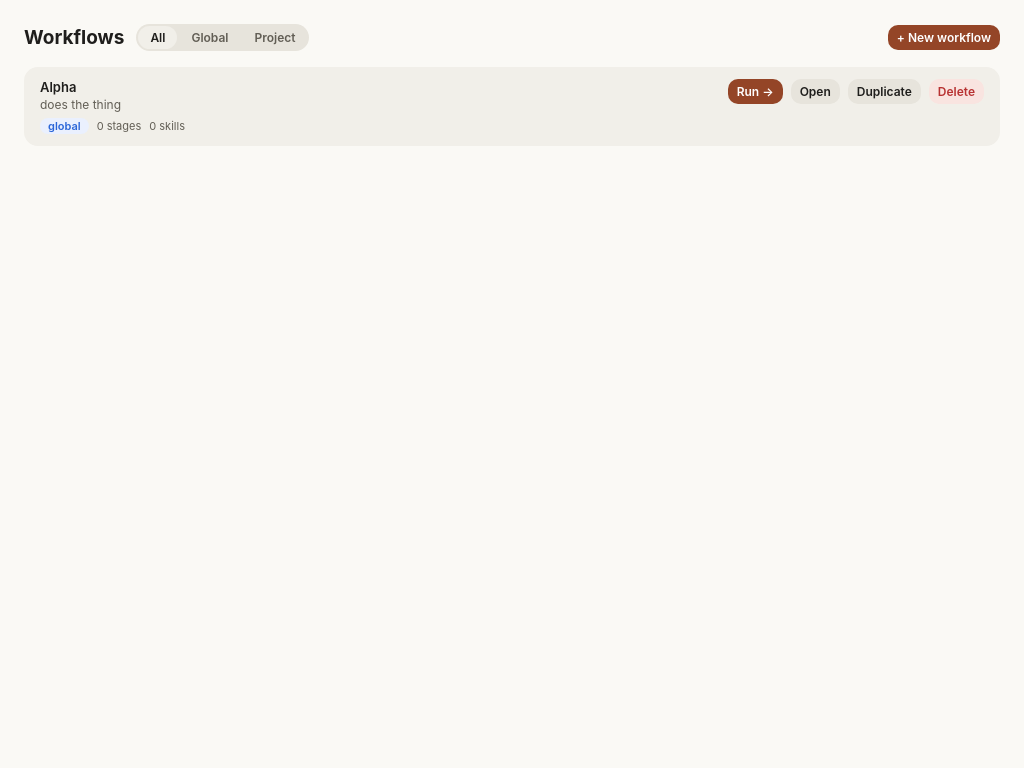
Scenario: WorkflowsView (SCR-01) › "Open" swaps the list for the editor
This screenshot has width=1024, height=768.
Click the button with test id "workflow-open-a" at (815, 92), box [791,79,840,104]
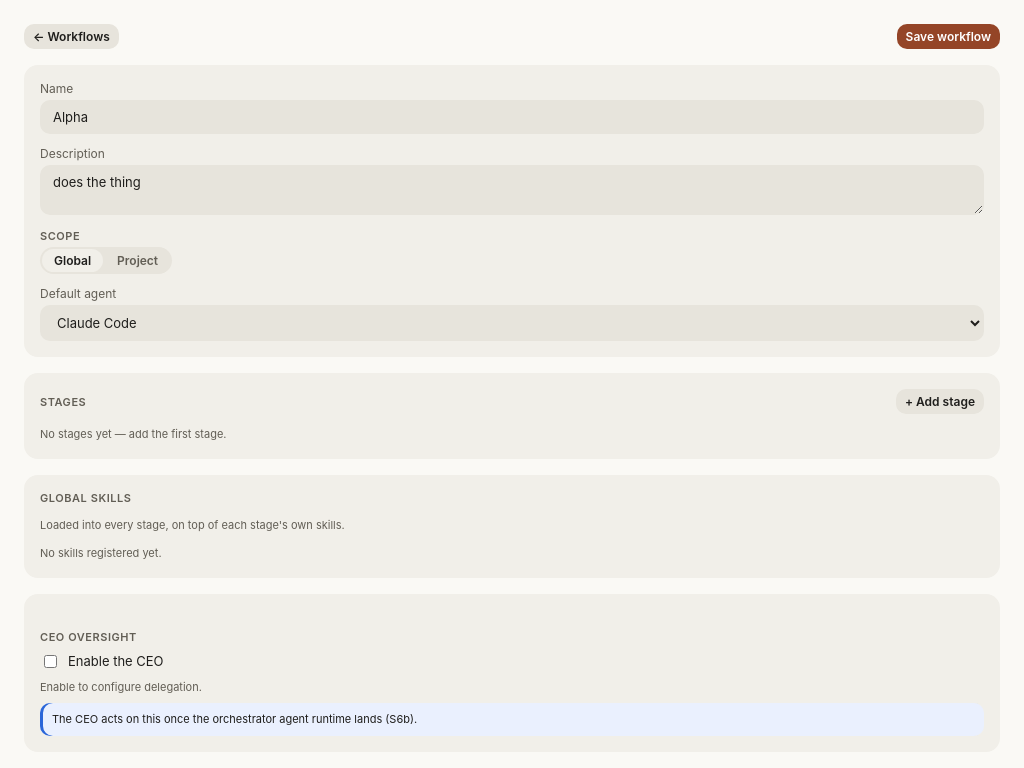
Expected: the field with test id "workflow-name" holds "Alpha", [40,100,984,134]
